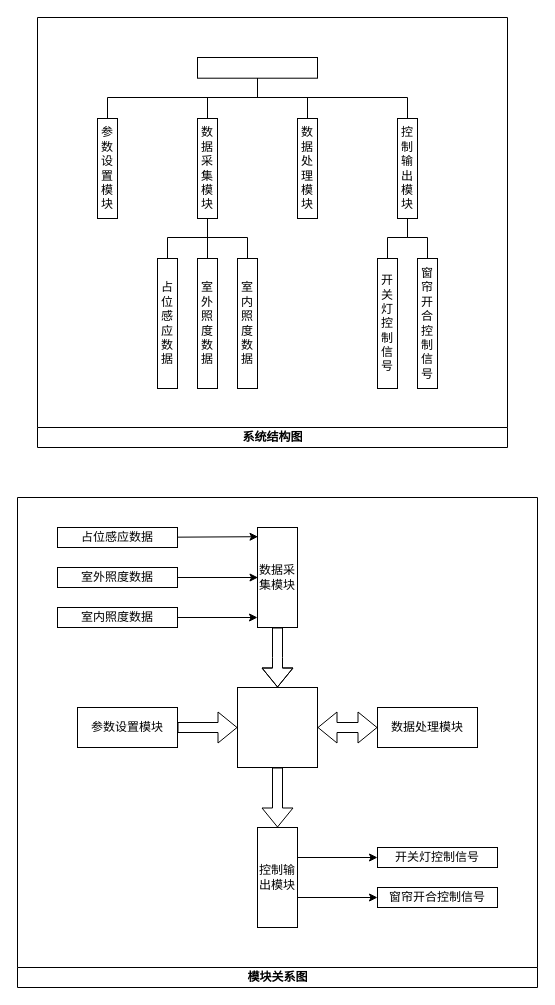
Image size: 555x1005. Some labels were removed from this diagram. The centre of each missing label's shape, as x and y in pixels:
系统软件主体: (x=257, y=67)
软件主体: (x=277, y=727)
